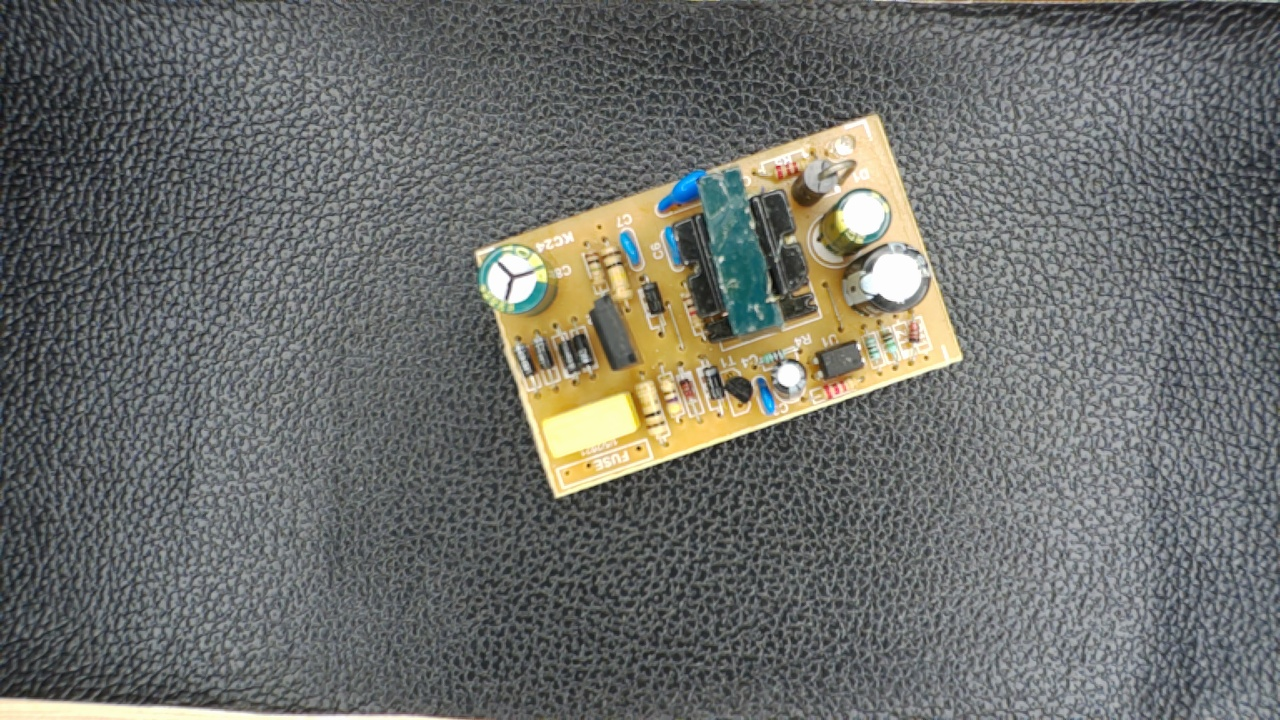hv_capacitor: (474, 246, 558, 314)
mov: (650, 173, 713, 216)
optocoupler: (807, 339, 870, 386)
